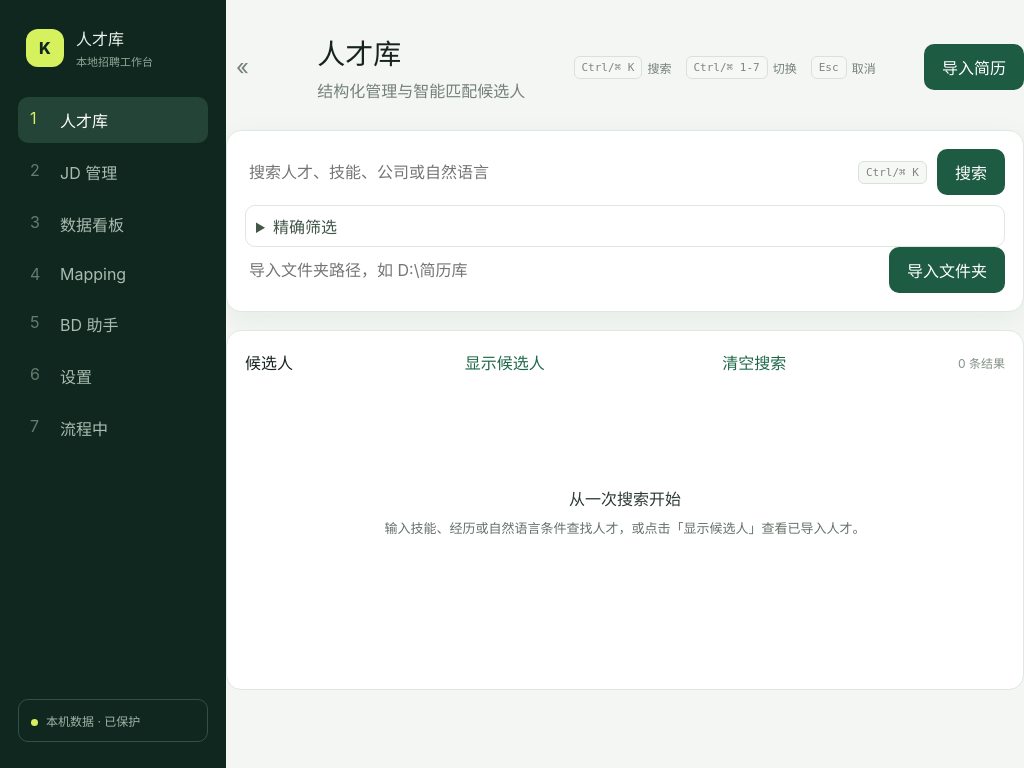
Test: recruitment consistency through the App › reopens a newly created case from its original match result
This screenshot has width=1024, height=768.
Click the button "2 JD 管理" at x=113, y=172, box top-left (18, 149), bottom-right (208, 195)
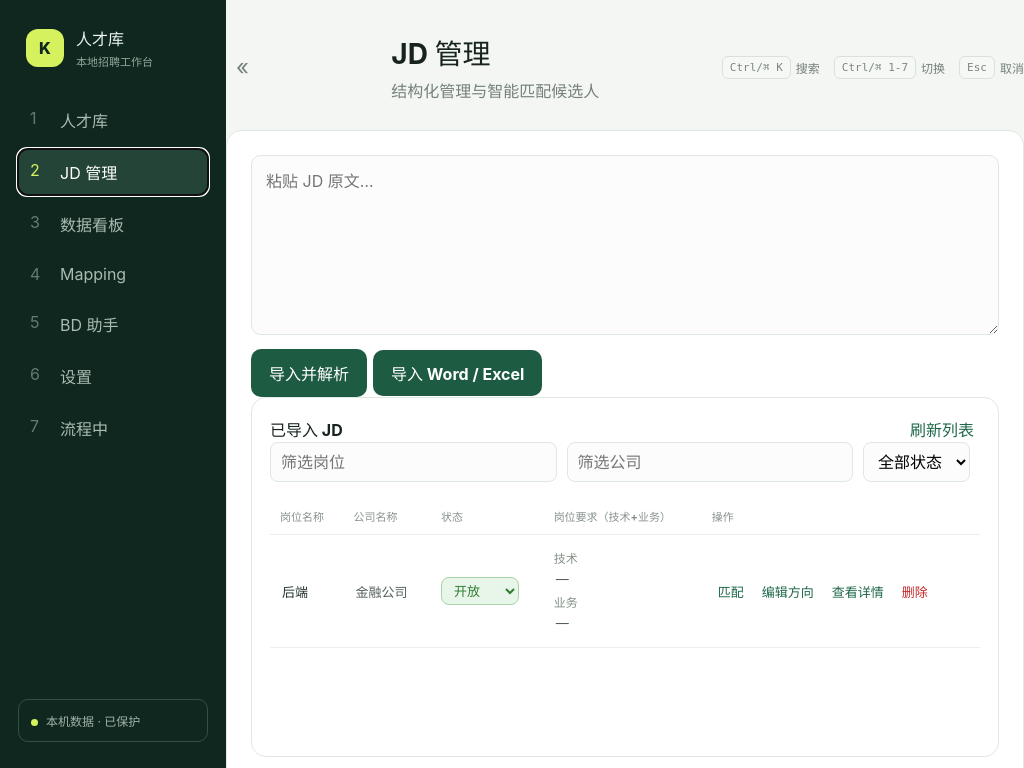
Click the button "匹配" at x=731, y=591, box top-left (712, 580), bottom-right (750, 602)
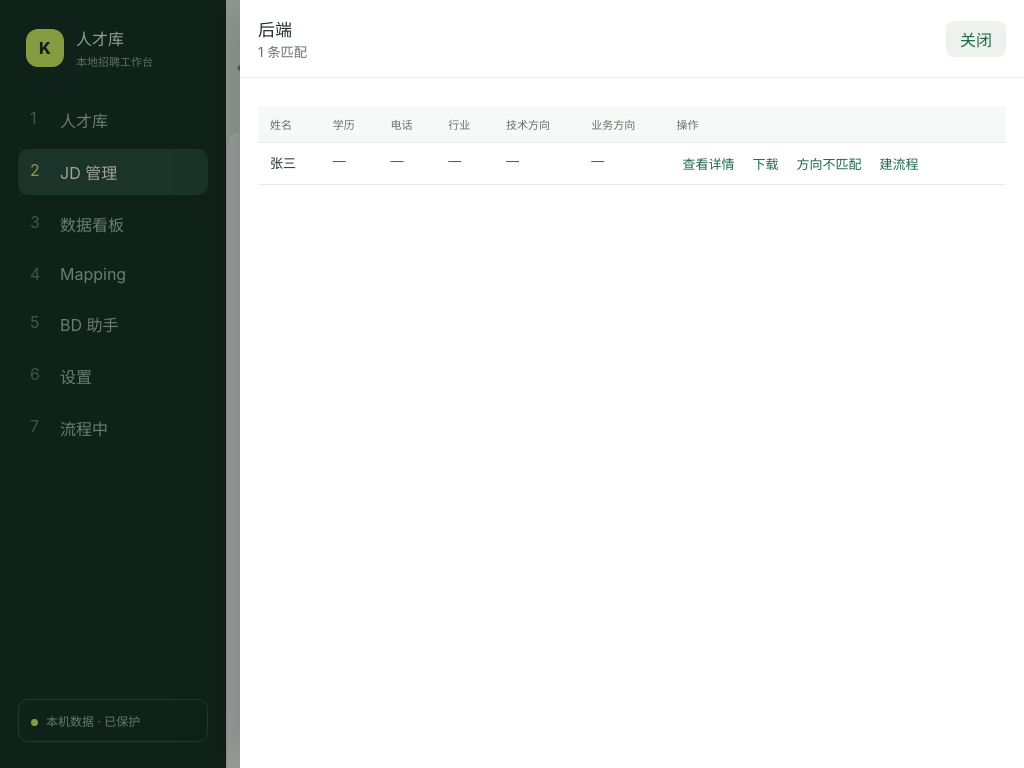
Click the button "建流程" at x=899, y=164, box top-left (874, 153), bottom-right (925, 174)
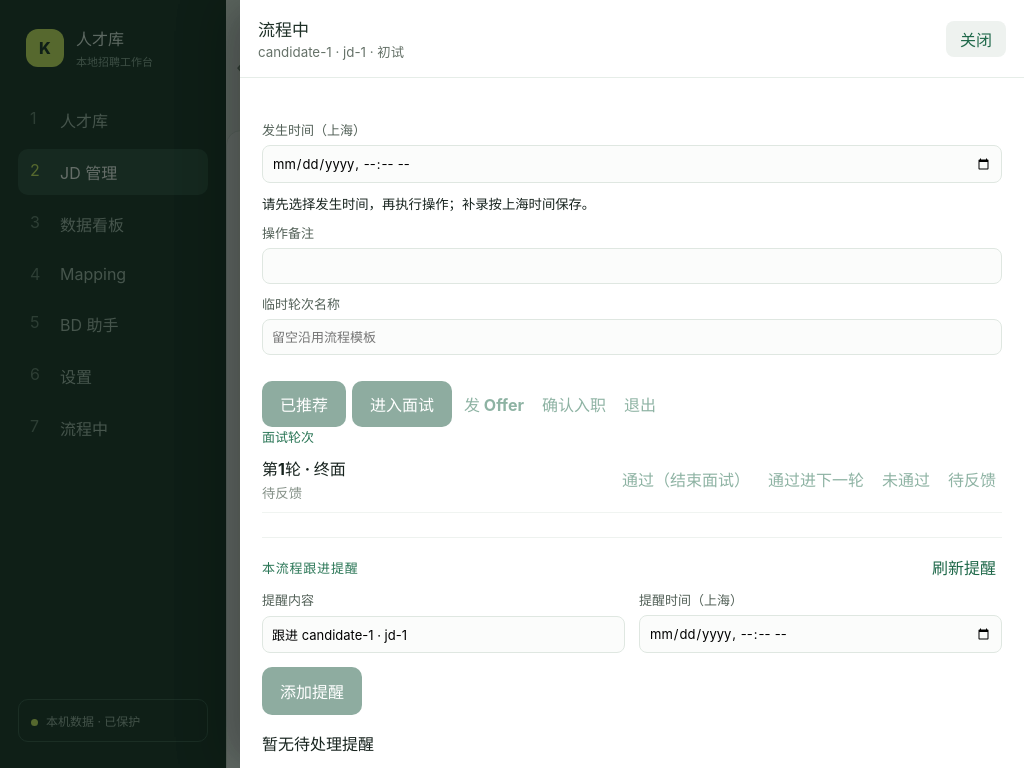
Click the button "关闭" at x=976, y=38, box top-left (946, 20), bottom-right (1006, 56)
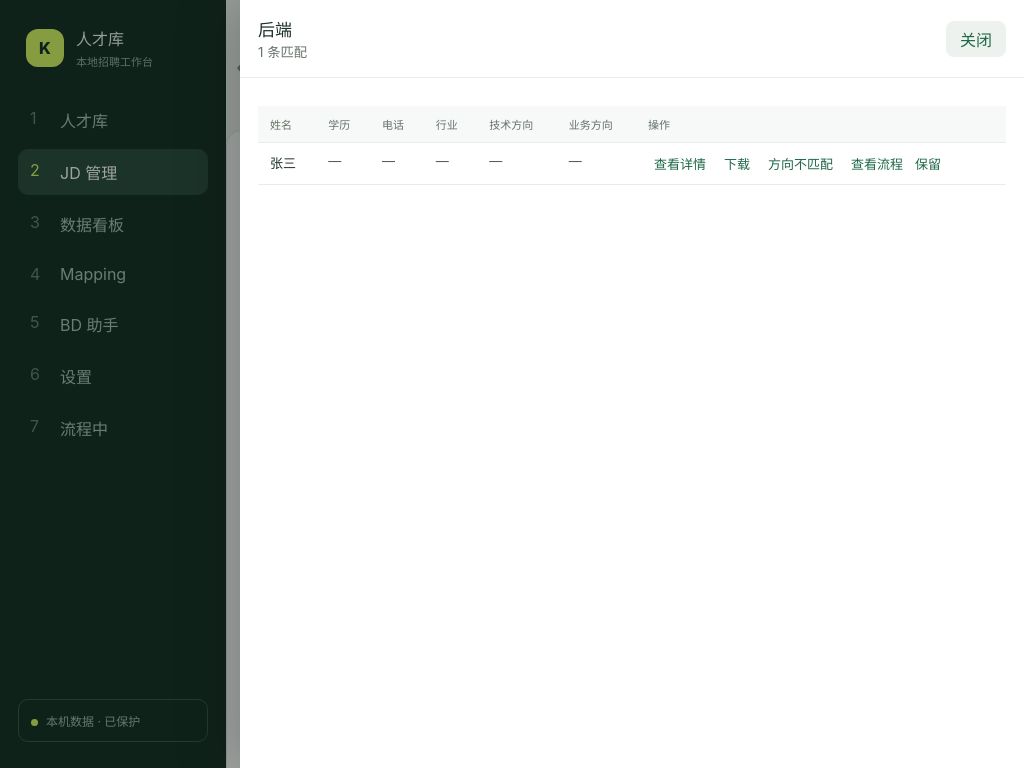
Click the button "查看流程" at x=877, y=164, box top-left (845, 153), bottom-right (909, 174)
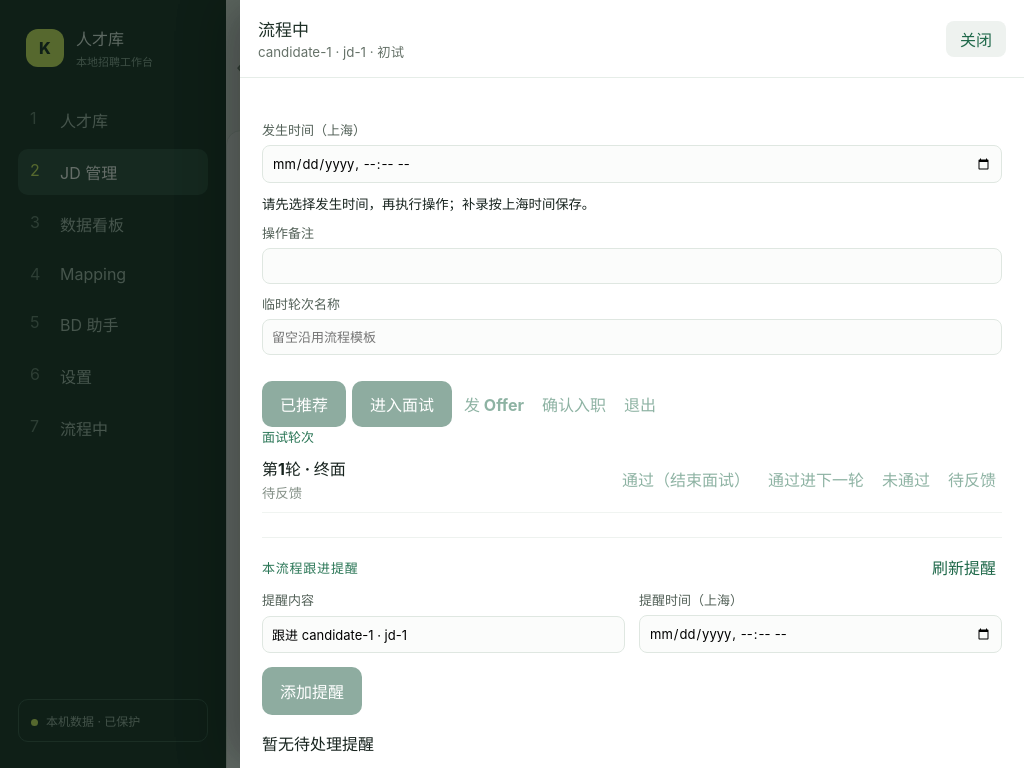
Now the dialog "流程中" is shown
